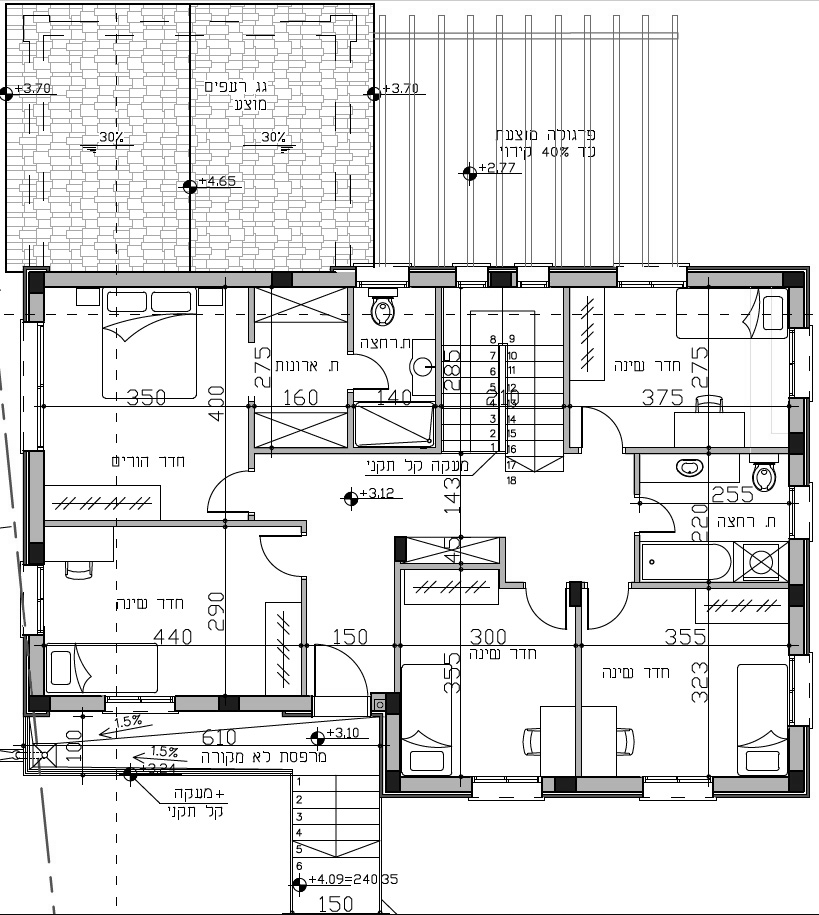door: (316, 639, 373, 689), (575, 402, 628, 443), (518, 594, 569, 635), (584, 592, 635, 633), (258, 532, 298, 579), (203, 465, 236, 516), (643, 496, 682, 538), (362, 351, 398, 395)
wall: (56, 275, 216, 283), (32, 459, 41, 539)
window: (18, 319, 49, 453), (615, 260, 688, 296), (784, 654, 815, 728), (20, 563, 50, 637), (786, 327, 815, 398), (103, 694, 178, 719), (641, 775, 716, 800), (469, 776, 544, 801), (353, 264, 411, 293), (785, 484, 814, 541), (515, 263, 551, 292), (454, 266, 490, 292)
